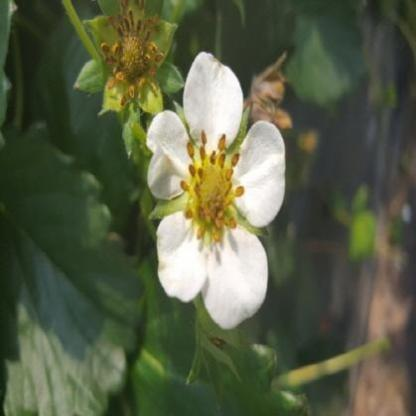Strawberry_Blossom_Blight: (176, 126, 245, 248), (97, 0, 168, 111)
